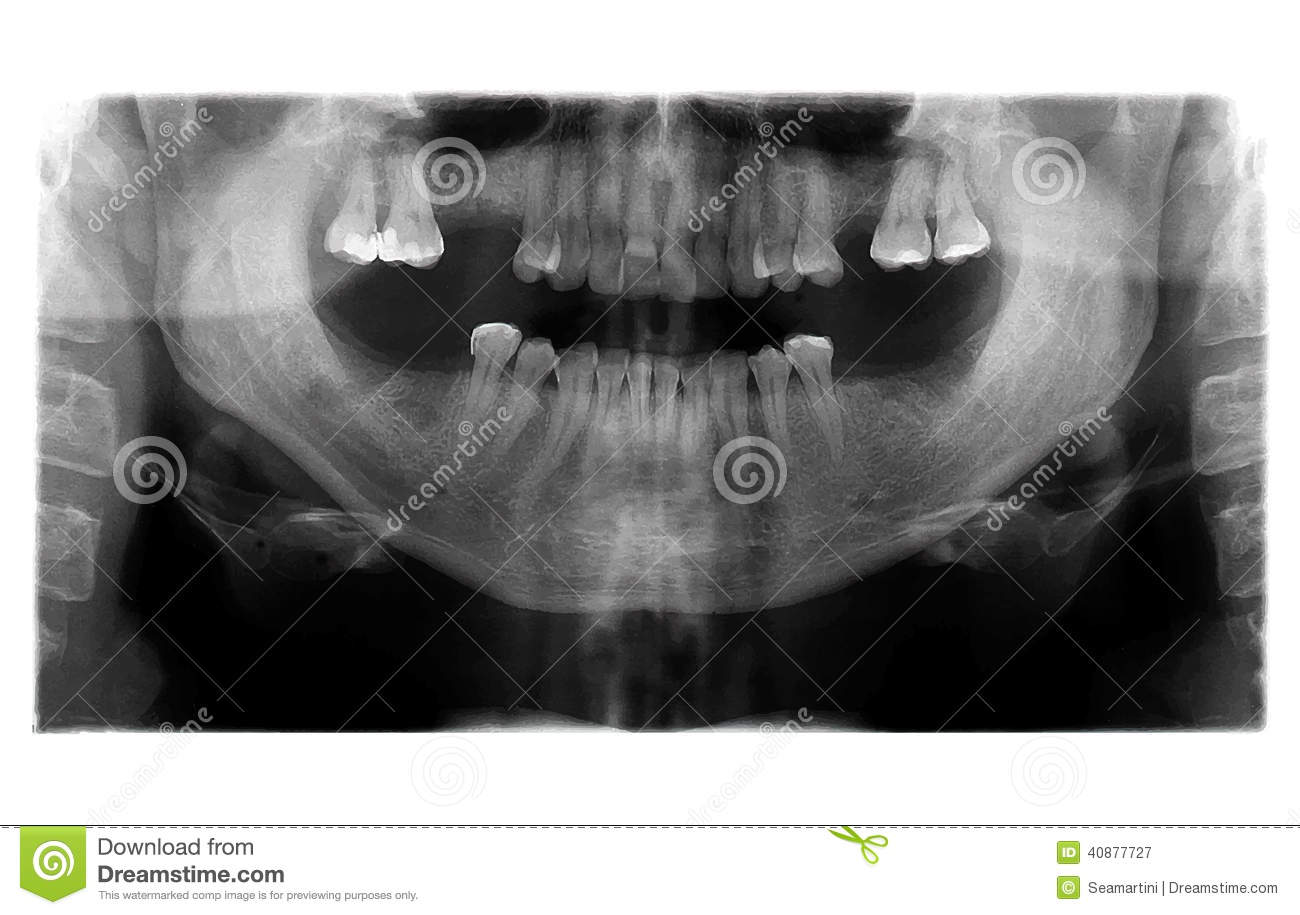canine: (551, 152, 599, 299), (731, 106, 762, 308)
incisor: (591, 142, 637, 340), (670, 338, 729, 492), (619, 150, 672, 317), (597, 324, 643, 481), (661, 151, 701, 317), (690, 145, 731, 304), (628, 327, 667, 483), (653, 347, 683, 472)
molar: (867, 131, 934, 328), (920, 141, 1000, 284), (378, 141, 448, 274), (323, 134, 383, 276)
premolar: (430, 308, 522, 493), (741, 321, 800, 540), (788, 132, 859, 301), (781, 326, 854, 467), (547, 326, 595, 533), (757, 119, 801, 318), (505, 308, 547, 510)
